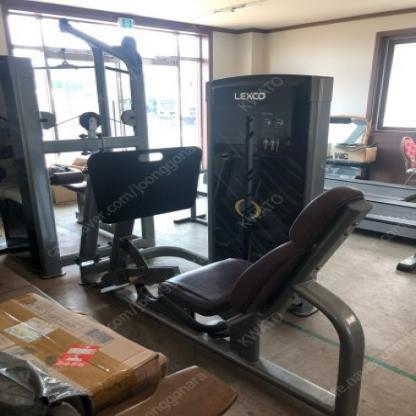leg press: (43, 38, 416, 414)
